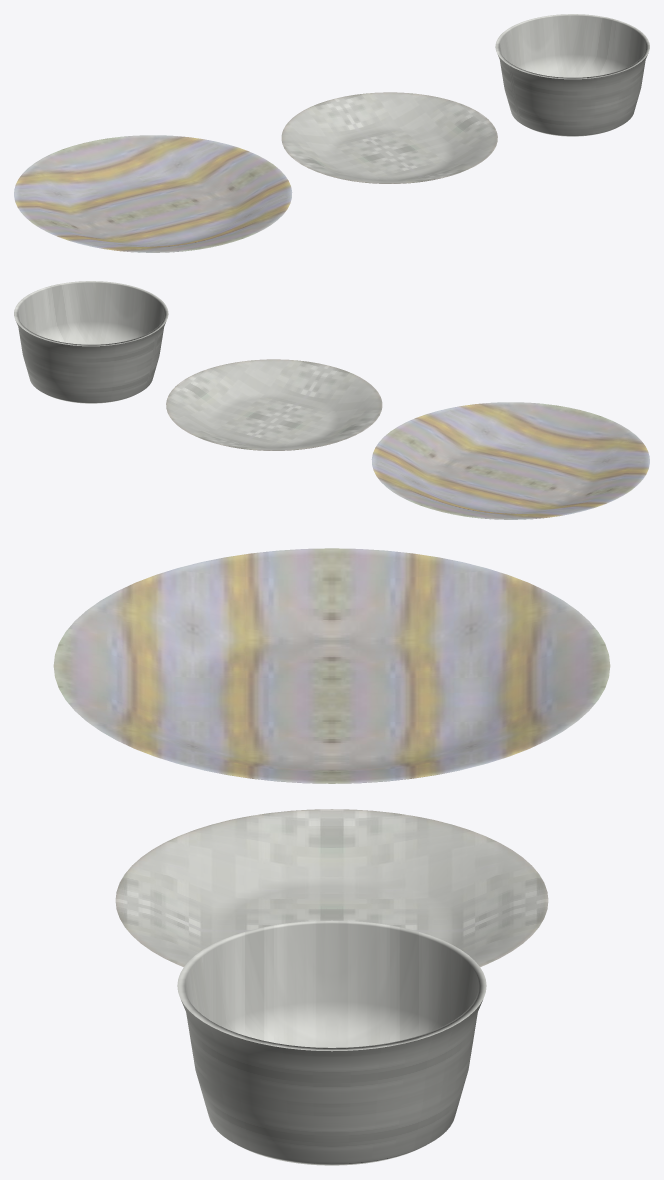
The model's file is MAR-15.glb.
The picture shows the model from 3 angles, top to bottom: view 1: azimuth 30°, elevation 25°; view 2: azimuth 150°, elevation 25°; view 3: azimuth 270°, elevation 25°; orthographic projection. The views are drawn at different scales.
Bounding box in the file's own units: 0.68 × 0.07 × 0.27.
6 materials, 6 textured.
